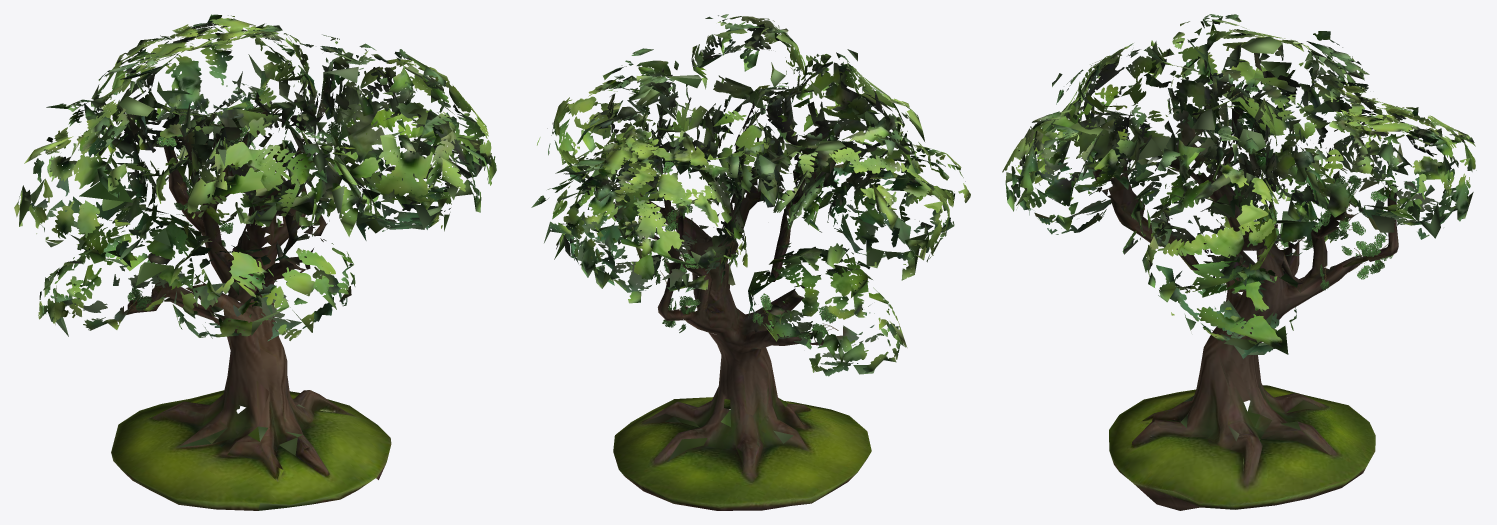
The model's file is tree-1459-mid.glb.
3 renders of one model, left to right at view 1: azimuth 30°, elevation 25°; view 2: azimuth 150°, elevation 25°; view 3: azimuth 270°, elevation 25°, orthographic. The views are drawn at different scales.
Visible parts, largest first — view 1: Foliage, Wood; view 2: Foliage, Wood; view 3: Foliage, Wood.
Part boxes in pixels (x1=…): Foliage: x1=14, y1=14, x2=496, y2=414; Wood: x1=111, y1=110, x2=391, y2=510; Foliage: x1=531, y1=14, x2=970, y2=376; Wood: x1=613, y1=112, x2=871, y2=510; Foliage: x1=1002, y1=14, x2=1476, y2=358; Wood: x1=1092, y1=108, x2=1401, y2=510.
Bounding box in the file's own units: 13.16 × 11.87 × 13.04.
2 materials, 2 textured.
